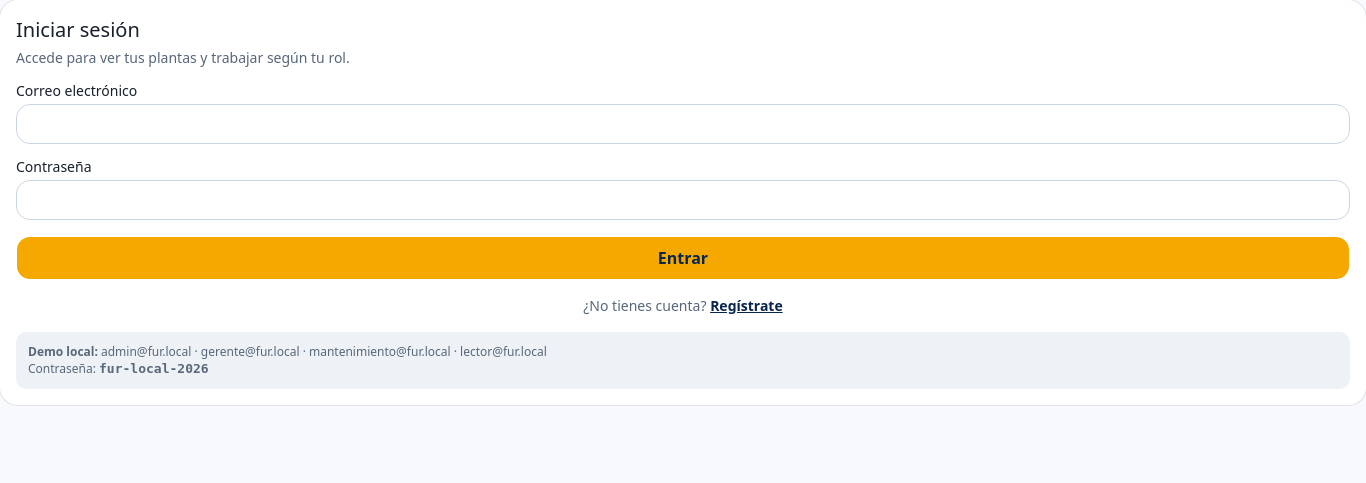
Test: AuthPage › login › límite de intentos (429) → mensaje claro
This screenshot has width=1366, height=483.
Type "a@b.co" into the field labelled "Correo electrónico" at [683, 124], box [16, 104, 1350, 144]
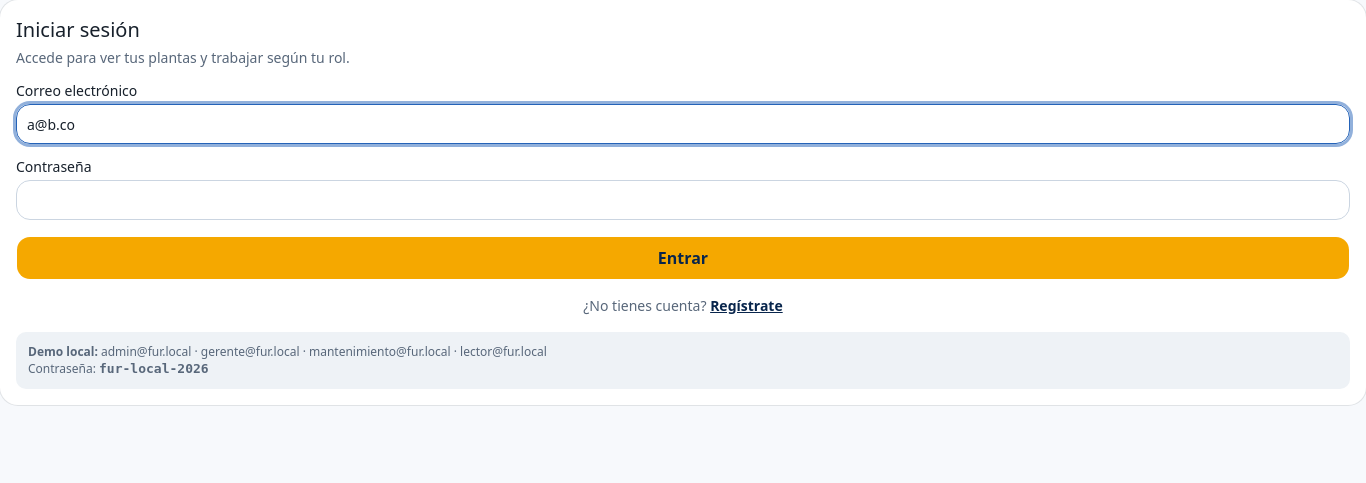
Type "x" into the password field labelled "Contraseña" at [683, 200], box [16, 180, 1350, 220]
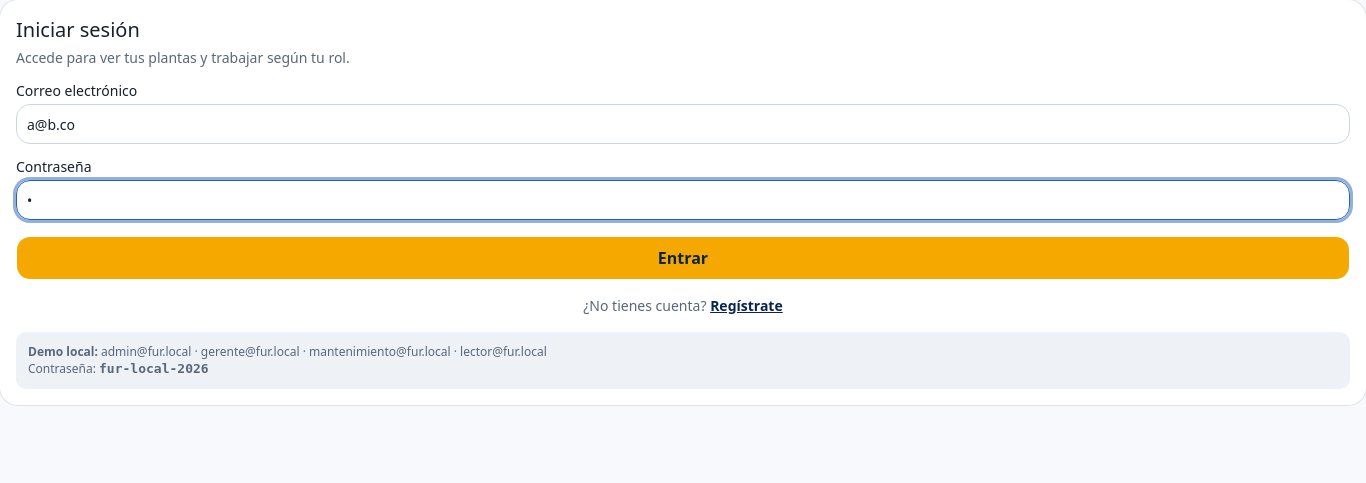
Click the button "Entrar" at [683, 258], box [16, 236, 1350, 280]
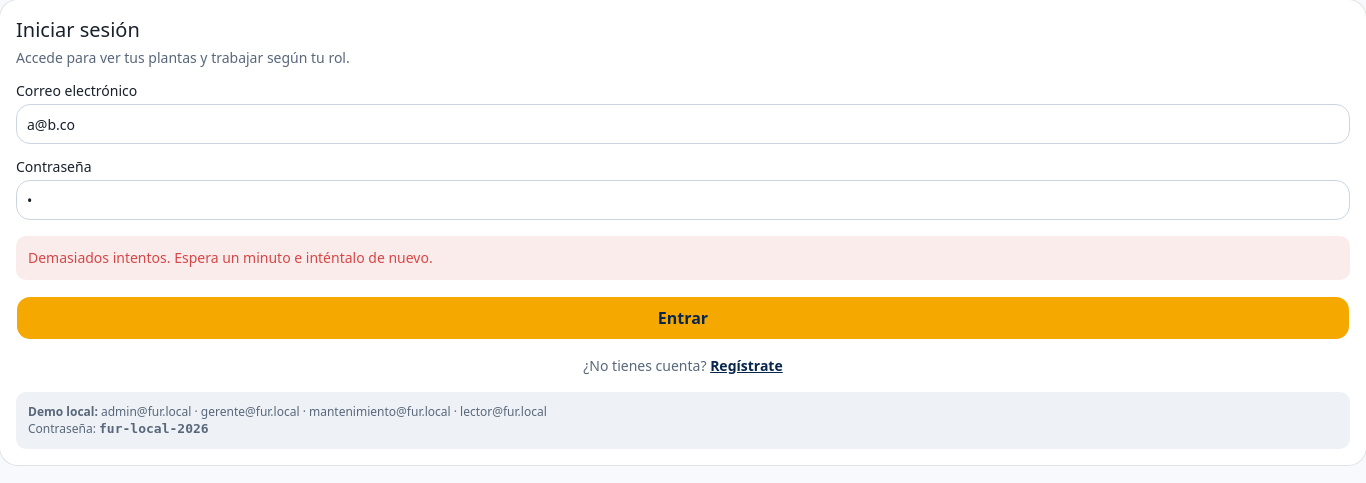
Check: the message shows "Demasiados intentos", box [28, 248, 433, 267]
